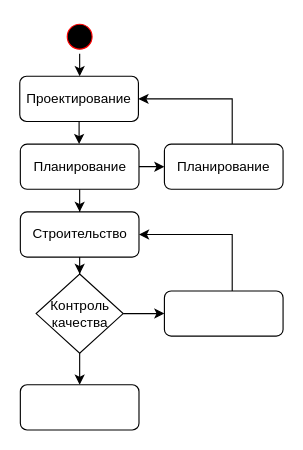
Image size: 303x450. Some labels were removed from this diagram. Each missing label, with the box of its shape:
Доработка: (163, 290, 283, 336)
Сдача обьекта: (19, 384, 139, 430)
